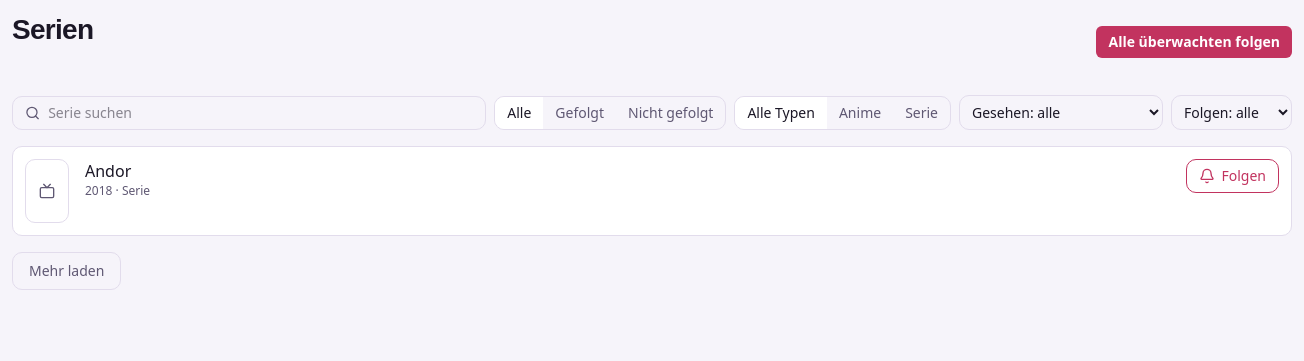
Test case: load more fetches the next page
Click the button "Mehr laden".
click(67, 271)  # box [12,252,121,290]
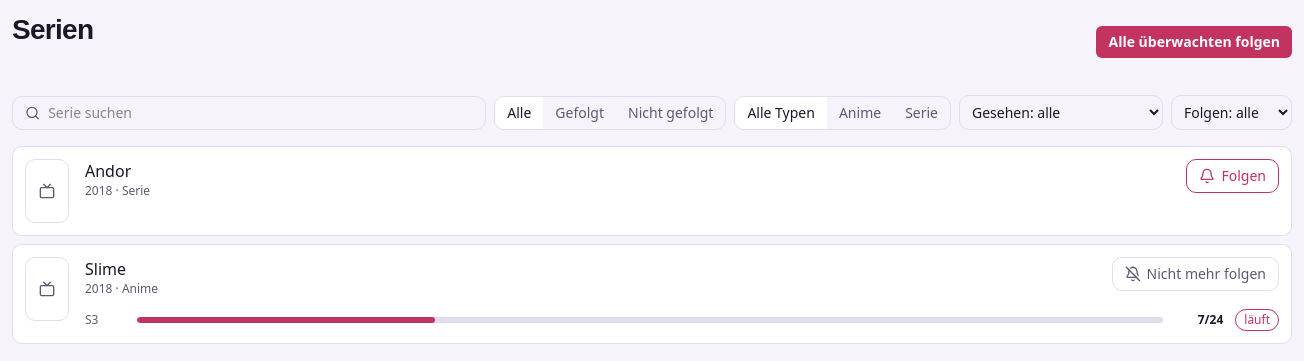
Expected: the link "Slime" is shown, [85,258,126,280]
Expected: the button "Mehr laden" is gone
